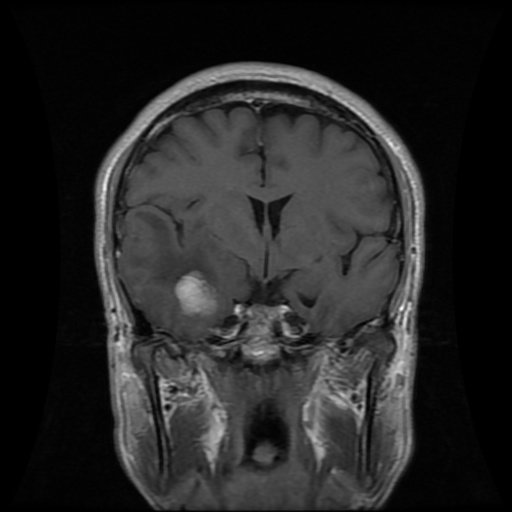meningioma: (173, 267, 221, 315)
